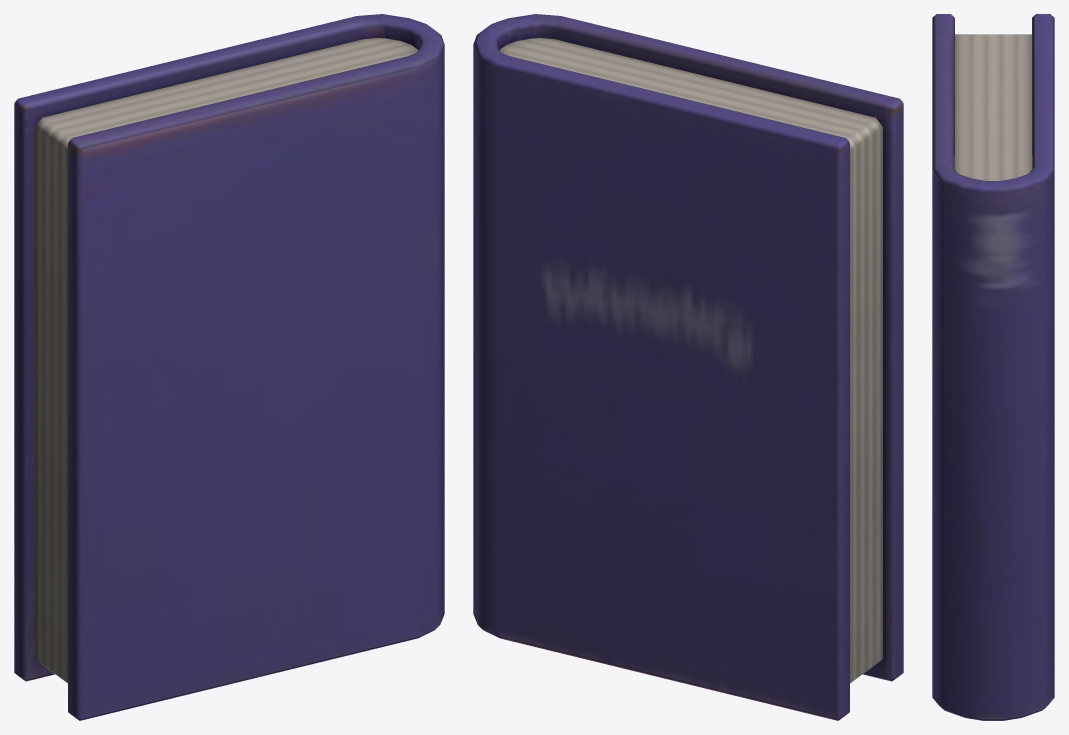
Rendered from SM_Book001_02.glb.
3 views of the same model, side by side, from view 1: azimuth 30°, elevation 25°; view 2: azimuth 150°, elevation 25°; view 3: azimuth 270°, elevation 25° (orthographic). The views are drawn at different scales.
Visible parts, largest first — view 1: SM_Book001_02; view 2: SM_Book001_02; view 3: SM_Book001_02.
Boxes of the visible parts, x1,y1,x2,y2 form: SM_Book001_02: (14, 14, 444, 720); SM_Book001_02: (473, 14, 903, 720); SM_Book001_02: (932, 14, 1054, 720).
Bounding box in the file's own units: 0.3111 × 0.4395 × 0.0912.
Materials: 1 (1 with a texture image).
